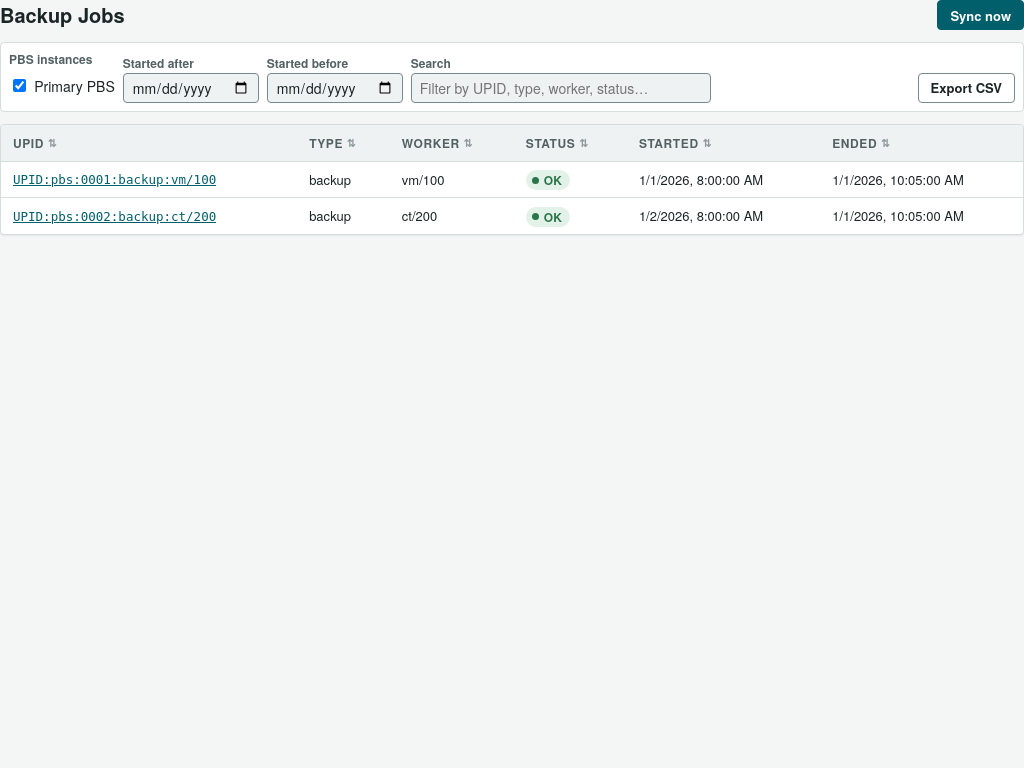
Scenario: TasksPage › clicking a UPID opens the log modal and renders fetched log lines
This screenshot has width=1024, height=768.
Check: the checkbox labelled "Primary PBS" is shown, box [13,79,26,92]
Check: the field labelled "Search" is shown, box [411,73,711,103]
Click the button "UPID:pbs:0001:backup:vm/100": [115, 180] box [13,172,216,187]
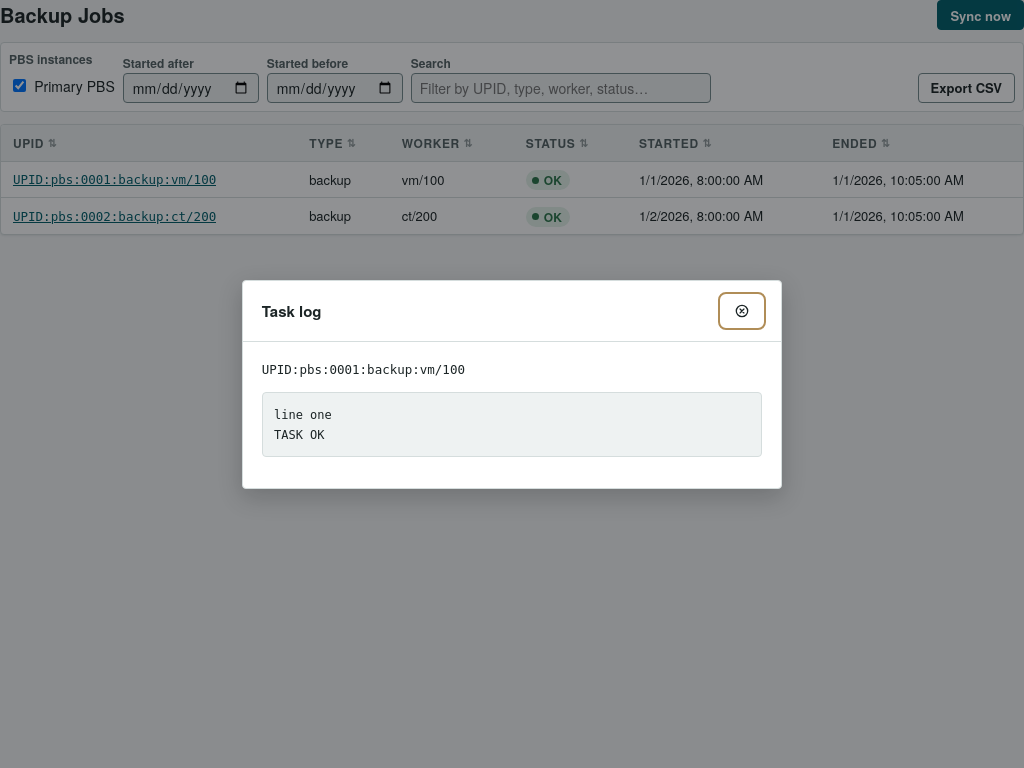
Check: the text "line one TASK OK" is shown, box [262,392,762,457]
